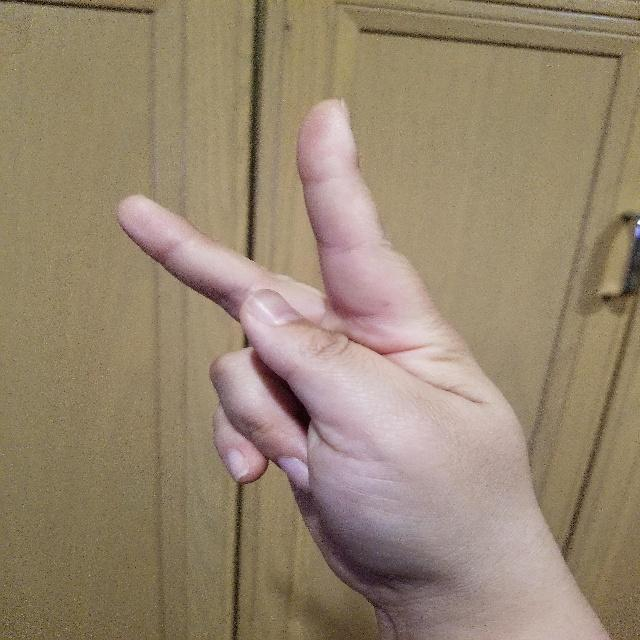K: (107, 88, 538, 602)
